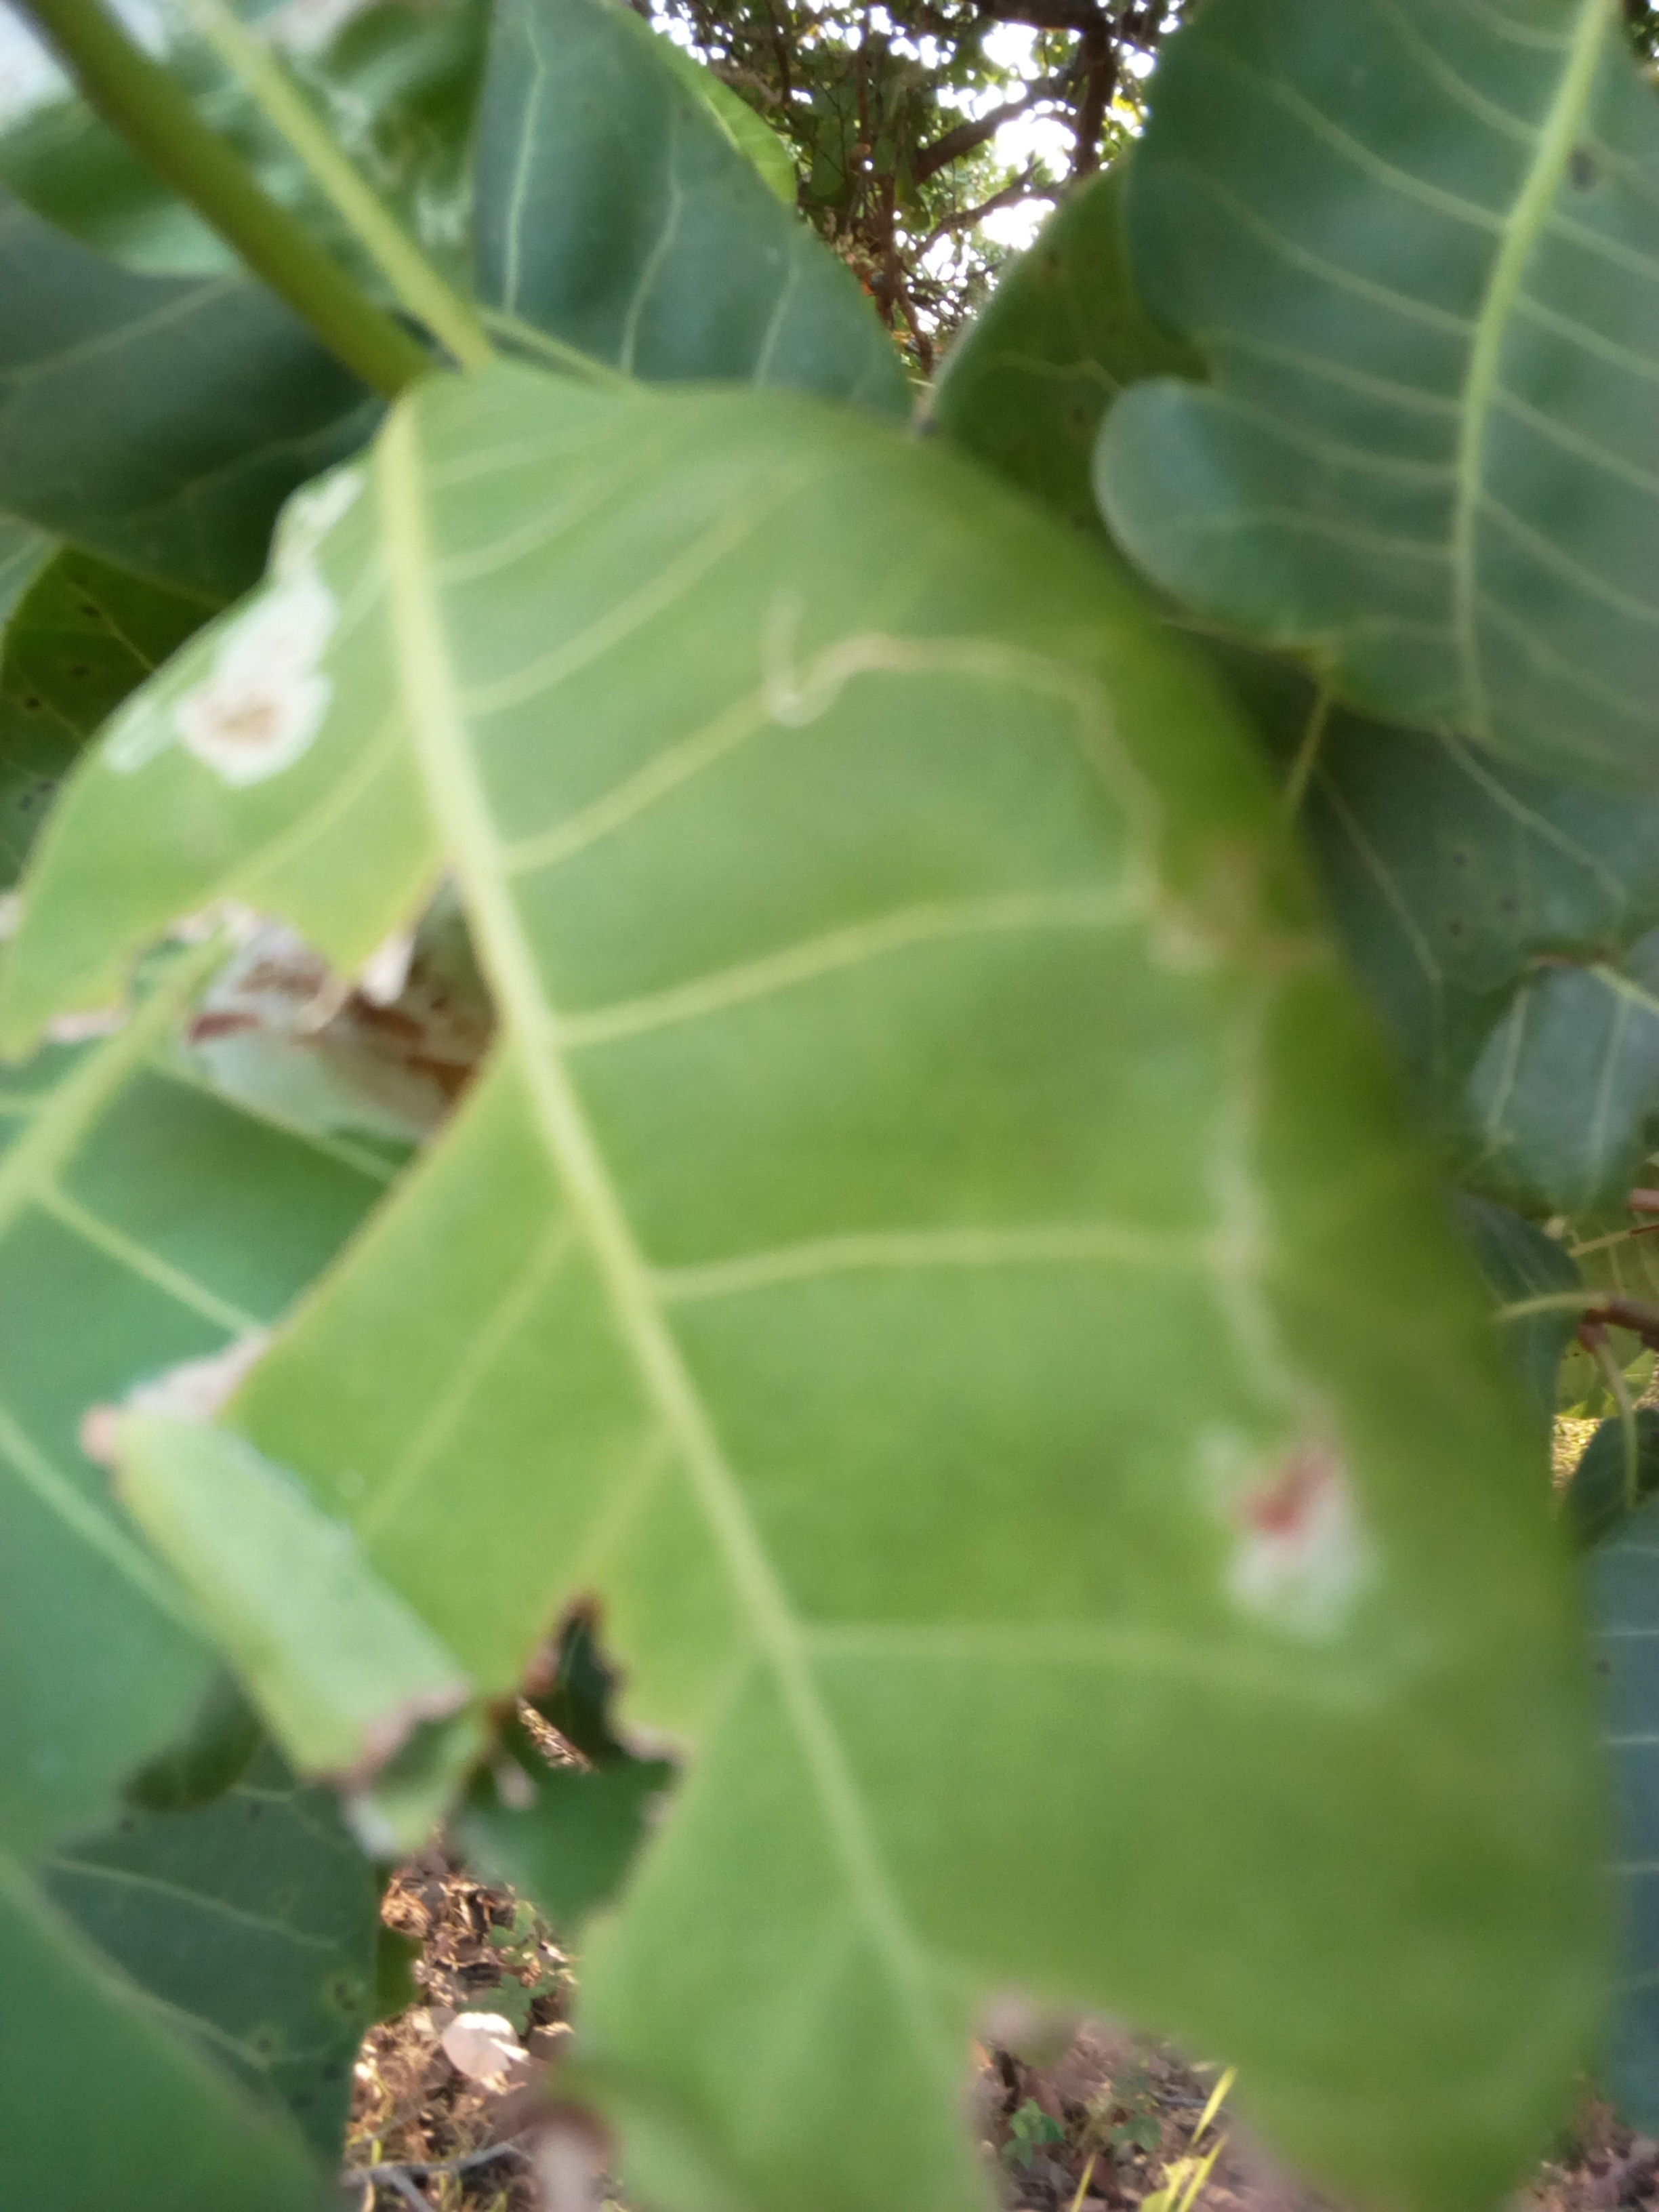Anoplocnemis curvipes: (105, 676, 1453, 2212)
